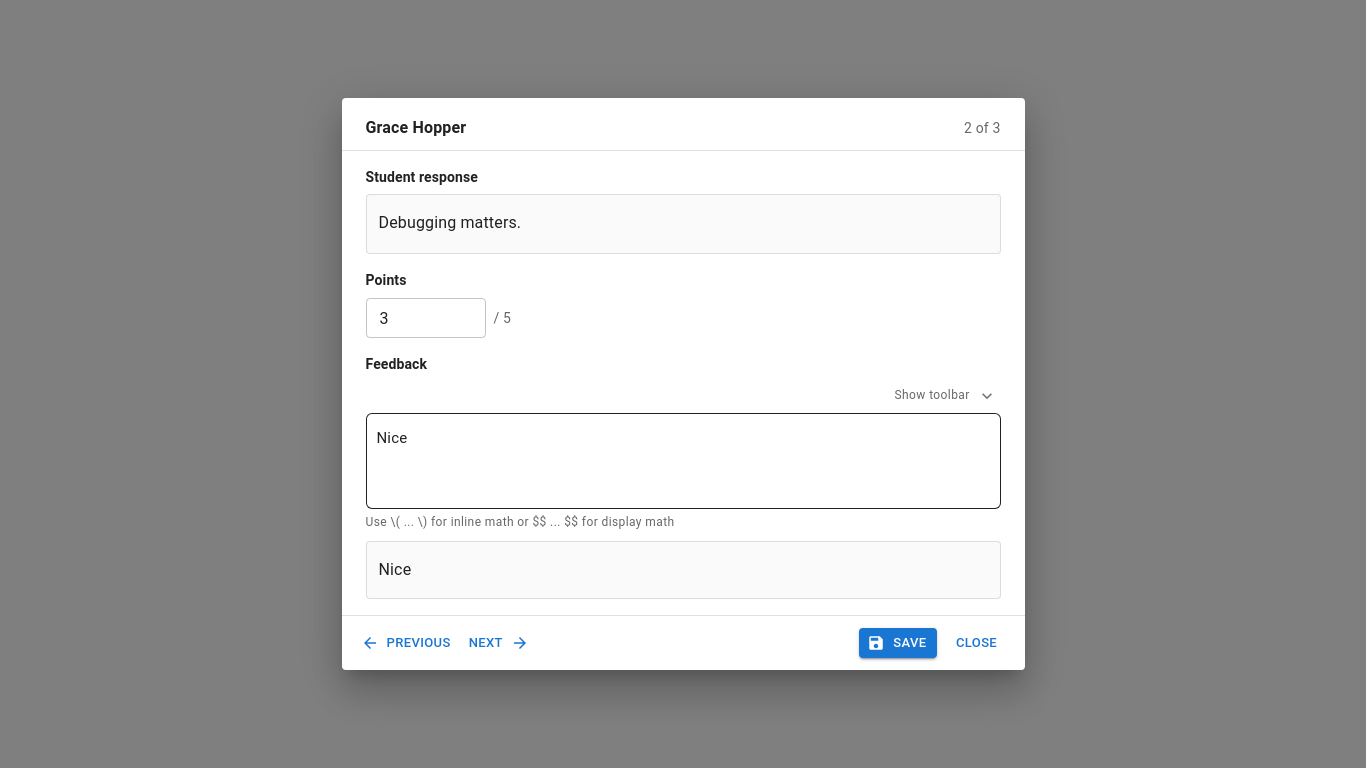
Scenario: SpeedGradingModal › navigates to previous student when Previous is clicked
Expected: the text "Grace Hopper" is shown, [366, 114, 466, 142]
Click the button "Previous" at point(407, 643), box [358, 628, 456, 658]
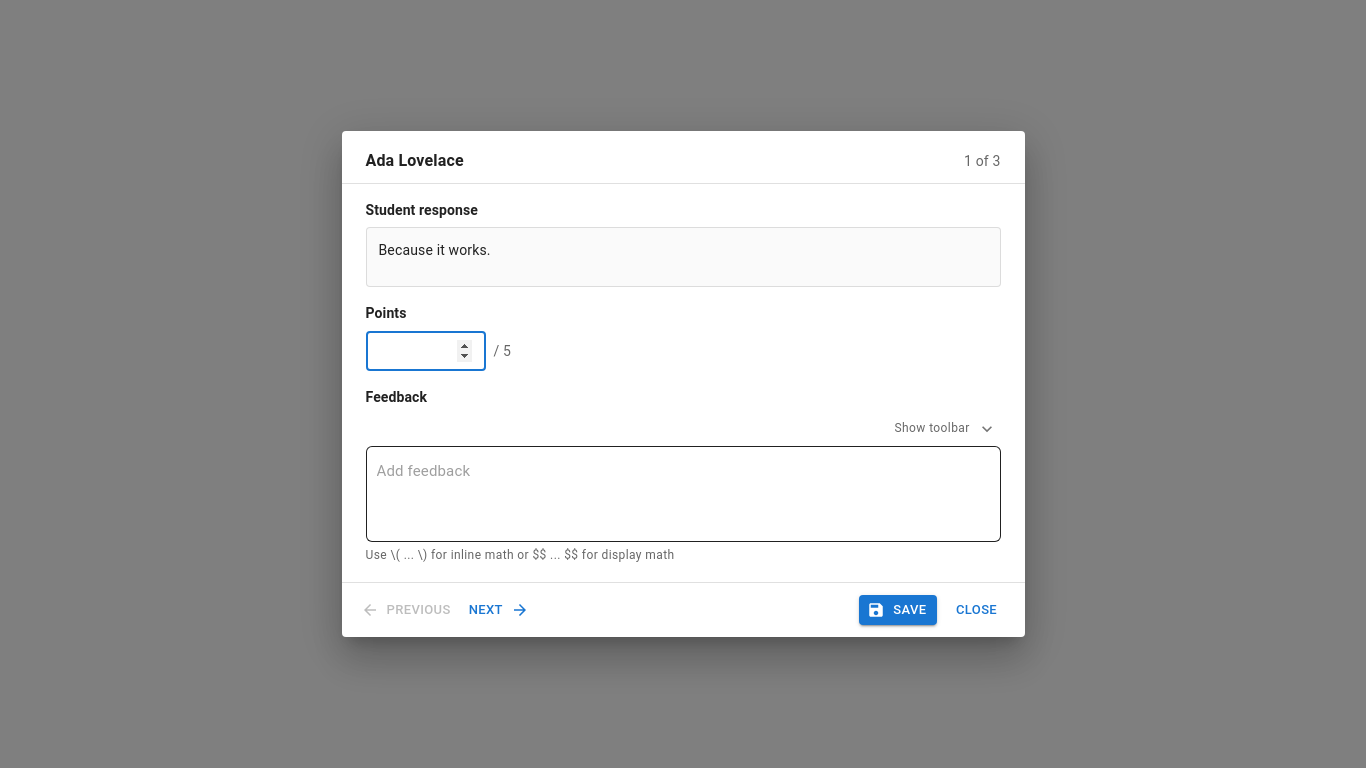
Now the text "Ada Lovelace" is shown, box [366, 146, 464, 174]
Now the text "1 of 3" is shown, box [964, 150, 1000, 170]
